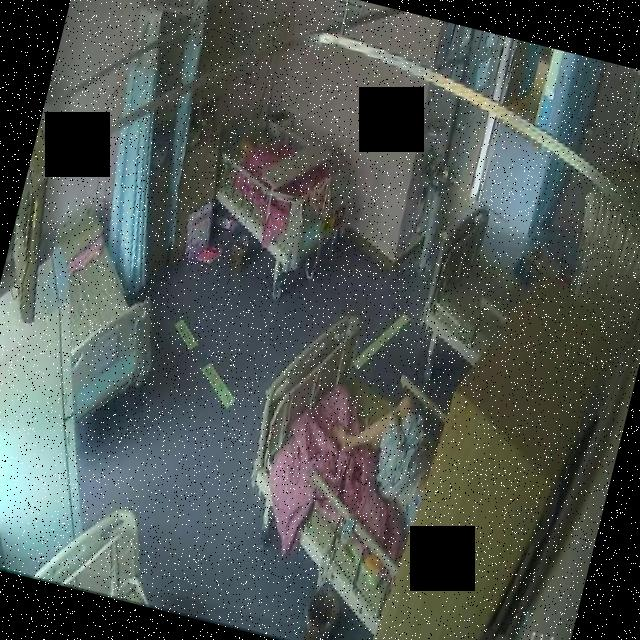bed: (224, 301, 464, 602), (191, 88, 385, 308), (19, 213, 182, 440), (411, 196, 546, 375)
lie: (318, 384, 447, 511)
patient: (322, 384, 448, 512)
